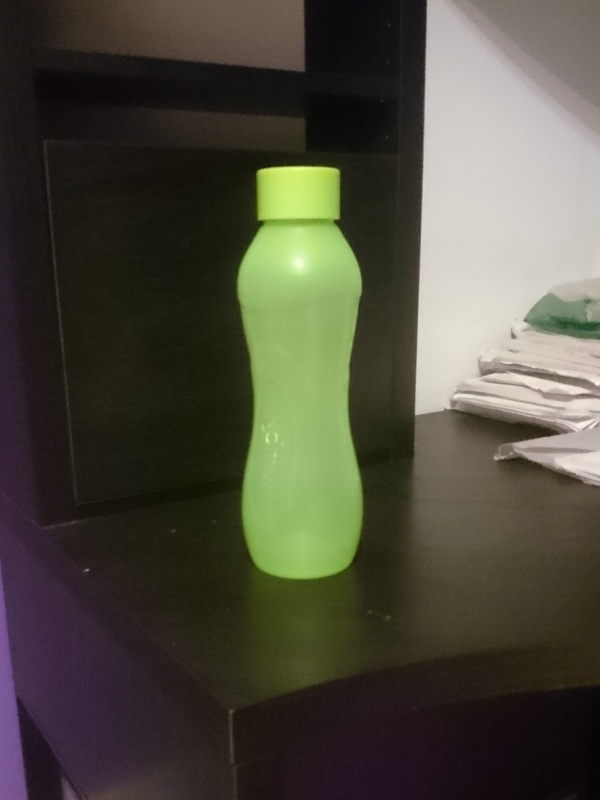my bottle: (234, 165, 360, 581)
